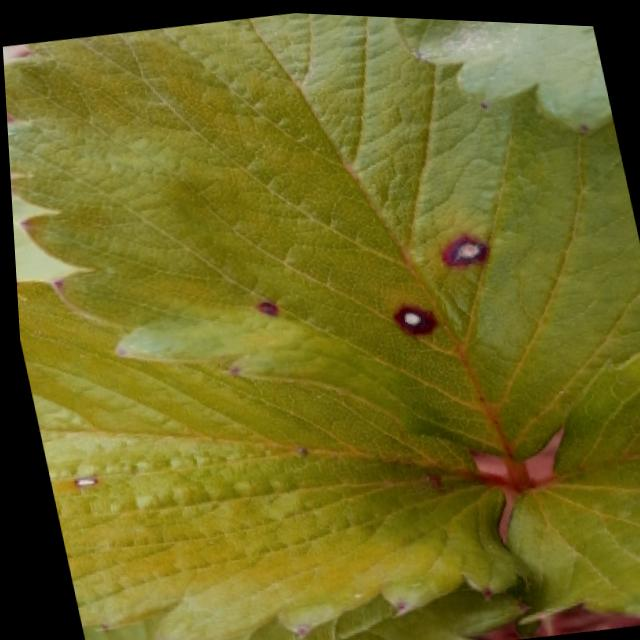Leaf Spot: (3, 10, 640, 459), (13, 280, 526, 640), (392, 14, 612, 130)
